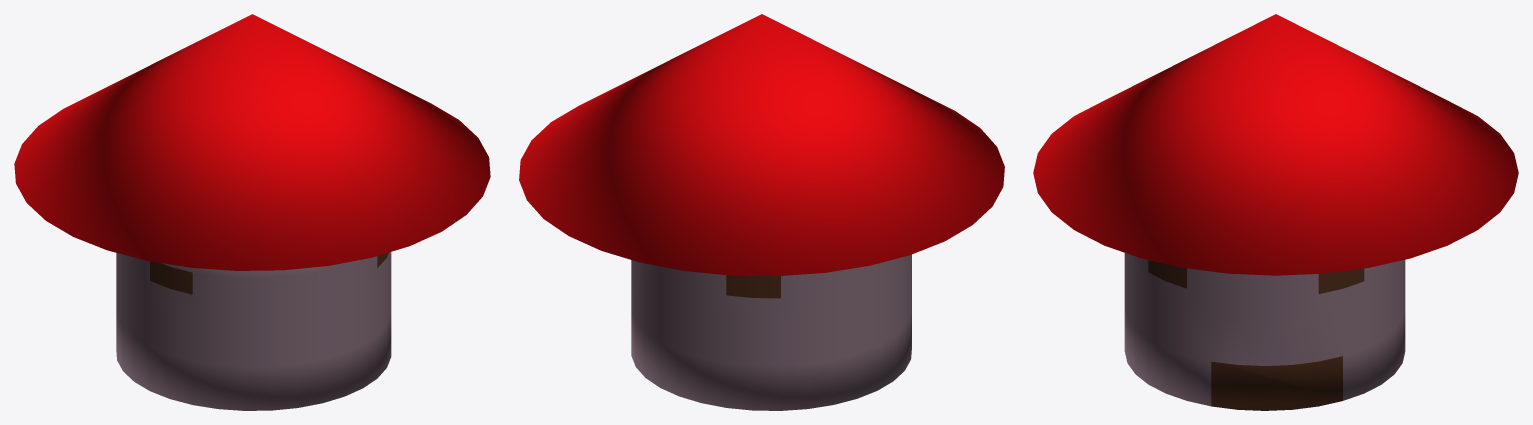
File: towerred.fbx
3 views of the same model, side by side, from view 1: azimuth 30°, elevation 25°; view 2: azimuth 150°, elevation 25°; view 3: azimuth 270°, elevation 25° (orthographic). The views are drawn at different scales.
Parts seen in each view (by area): view 1: RedTower; view 2: RedTower; view 3: RedTower.
Boxes of the visible parts, x1,y1,x2,y2 form: RedTower: (14, 14, 490, 410); RedTower: (519, 14, 1004, 410); RedTower: (1033, 14, 1518, 410).
Size of the model in its own units: 220 by 220 by 170.
